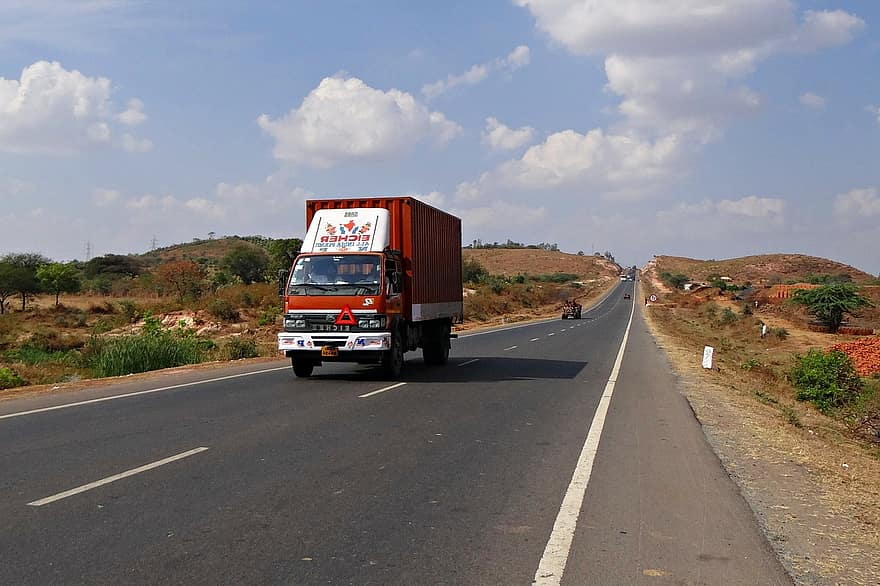truck: (280, 198, 464, 371)
